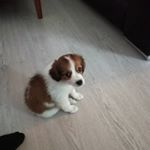puppy: (21, 52, 92, 123)
